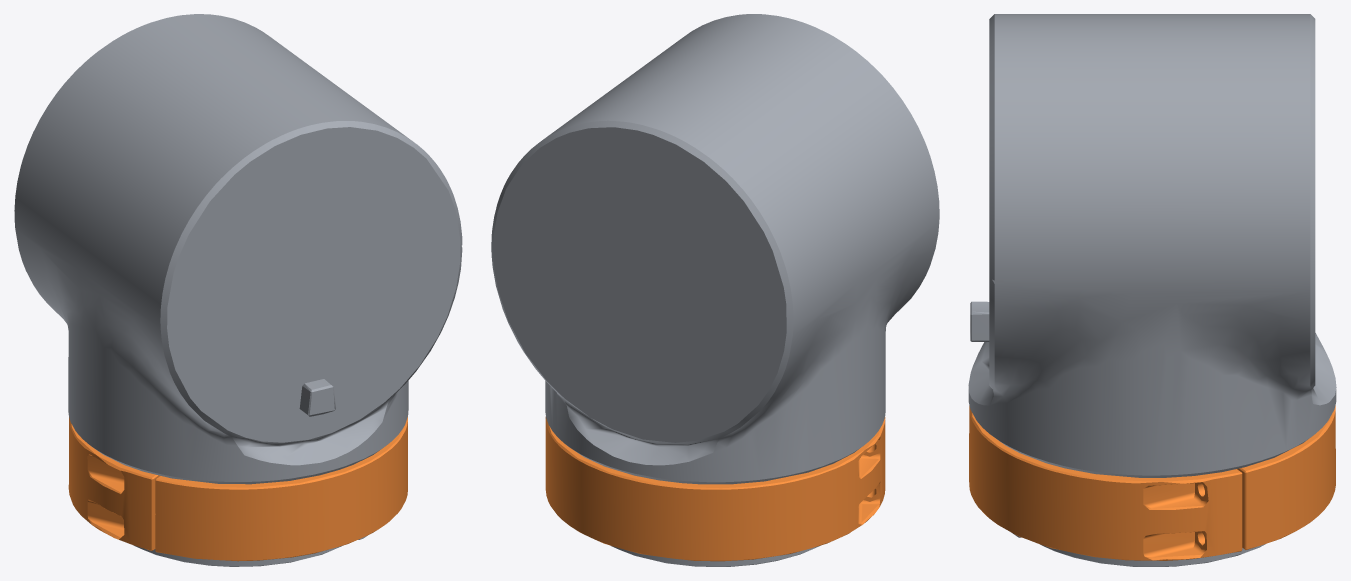
File: right_arm_link1.dae
The picture shows the model from 3 angles, left to right: view 1: azimuth 30°, elevation 25°; view 2: azimuth 150°, elevation 25°; view 3: azimuth 270°, elevation 25°; orthographic projection. The views are drawn at different scales.
Parts seen in each view (by area): view 1: geom1, geom0; view 2: geom1, geom0; view 3: geom1, geom0.
Boxes of the visible parts, <box> form: geom1: <box>14,14,462,566</box>; geom0: <box>68,417,407,561</box>; geom1: <box>491,14,939,566</box>; geom0: <box>545,416,885,561</box>; geom1: <box>968,14,1336,566</box>; geom0: <box>969,405,1335,560</box>.
Size of the model in its own units: 0.147 by 0.1434 by 0.204.
